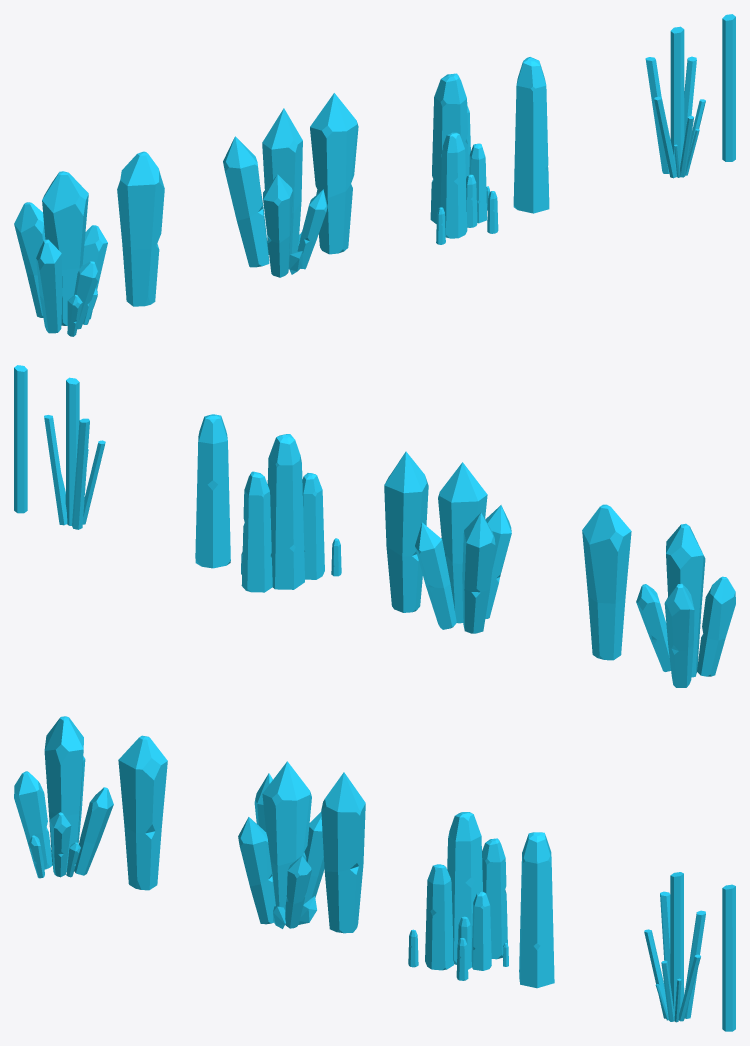
Rendered from crystals.glb.
3 renders of one model, top to bottom at view 1: azimuth 30°, elevation 25°; view 2: azimuth 150°, elevation 25°; view 3: azimuth 330°, elevation 25°, orthographic.
Parts seen in each view (by area): view 1: Circle.020, Circle.021, Circle.022, Circle.001, Circle.004, Circle, Circle.002, Circle.007, Circle.005, Circle.042, Circle.013, Circle.014 (+9 smaller); view 2: Circle.020, Circle.021, Circle.002, Circle.022, Circle, Circle.008, Circle.004, Circle.001, Circle.014, Circle.013, Circle.003, Circle.007 (+7 smaller); view 3: Circle.020, Circle.021, Circle.022, Circle, Circle.001, Circle.002, Circle.007, Circle.005, Circle.008, Circle.042, Circle.013, Circle.033 (+8 smaller).
Part boxes in pixels (x1,y1,x2,y2): Circle.020: (117,151,164,306); Circle.021: (310,93,358,254); Circle.022: (513,57,549,213); Circle.001: (42,171,88,325); Circle.004: (223,136,269,267); Circle: (262,108,302,268); Circle.002: (430,73,468,223); Circle.007: (440,132,467,238); Circle.005: (263,174,292,277); Circle.042: (722,14,735,161); Circle.013: (36,239,62,333); Circle.014: (14,202,45,317); Circle.020: (582,504,631,660); Circle.021: (384,451,428,612); Circle.002: (267,434,304,589); Circle.022: (195,414,230,568); Circle: (438,462,487,623); Circle.008: (241,471,272,592); Circle.004: (462,512,495,633); Circle.001: (666,523,705,677); Circle.014: (664,583,694,687); Circle.013: (697,576,735,676); Circle.003: (415,522,456,629); Circle.007: (302,473,324,579); Circle.020: (118,735,167,890); Circle.021: (321,772,365,933); Circle.022: (519,832,554,988); Circle: (262,761,311,911); Circle.001: (44,716,83,872); Circle.002: (447,812,482,964); Circle.007: (425,864,453,970); Circle.005: (238,817,275,924); Circle.008: (482,838,507,959); Circle.042: (722,884,735,1031); Circle.013: (14,771,52,869); Circle.033: (670,872,684,1015).
Size of the model in its own units: 13.22 by 2.91 by 1.62.
